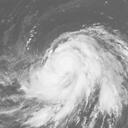cyclone: (21, 29, 120, 113)
